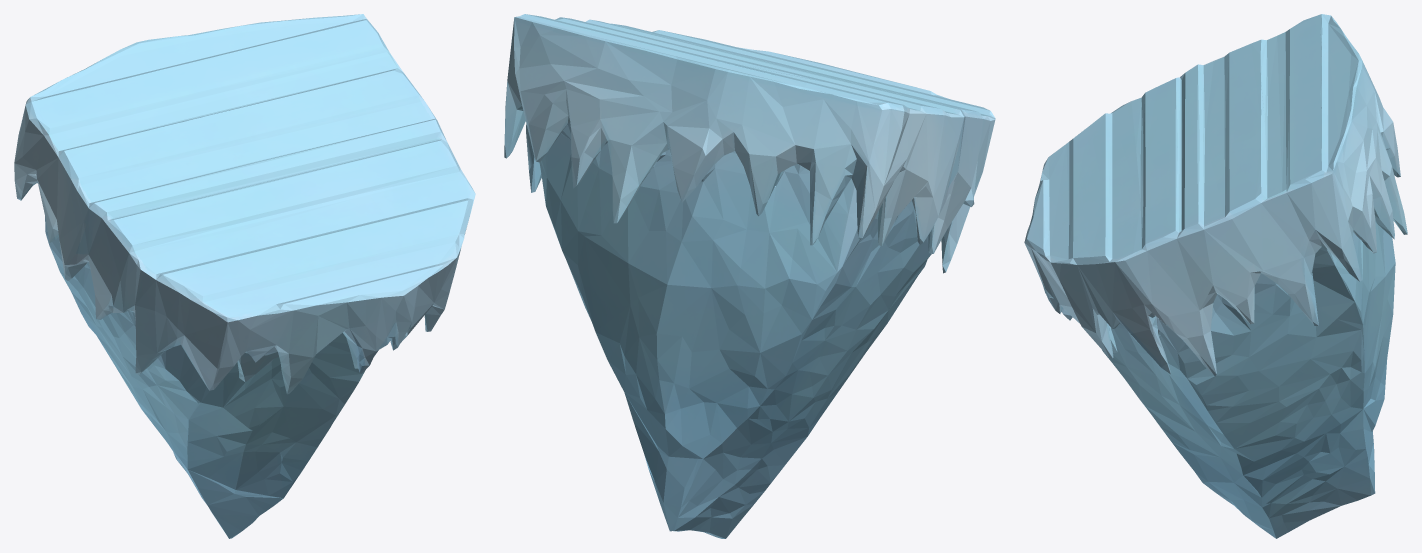
File: platform1.fbx
3 renders of one model, left to right at view 1: azimuth 30°, elevation 25°; view 2: azimuth 150°, elevation 25°; view 3: azimuth 270°, elevation 25°, orthographic. The views are drawn at different scales.
Parts seen in each view (by area): view 1: Mesh_0; view 2: Mesh_0; view 3: Mesh_0.
Boxes of the visible parts, <box> form: Mesh_0: <box>14,14,475,538</box>; Mesh_0: <box>504,14,995,538</box>; Mesh_0: <box>1024,14,1407,538</box>.
Bounding box in the file's own units: 0.7808 × 1 × 0.7633.
1 material, 1 textured.
